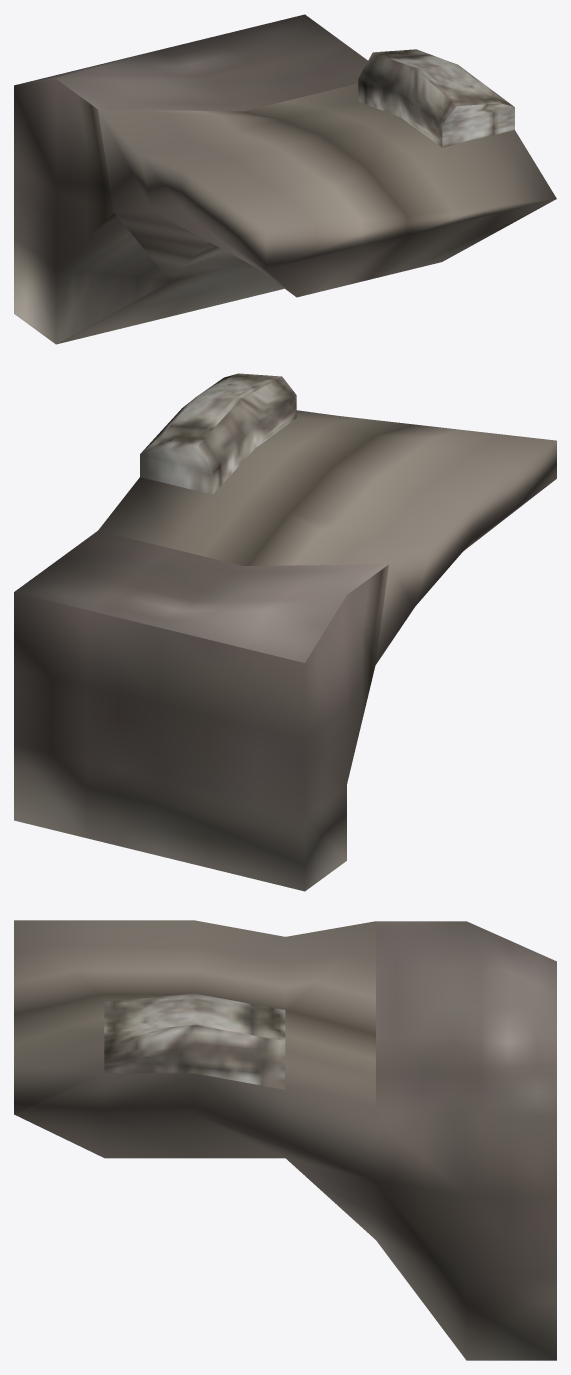
Rendered from ruin14.glb.
The picture shows the model from 3 angles, top to bottom: view 1: azimuth 30°, elevation 25°; view 2: azimuth 150°, elevation 25°; view 3: azimuth 270°, elevation 25°; orthographic projection. The views are drawn at different scales.
Visible parts, largest first — view 1: ruin14; view 2: ruin14; view 3: ruin14.
Boxes of the visible parts, bbox=[...] form: ruin14: bbox=[14, 14, 556, 344]; ruin14: bbox=[14, 373, 556, 891]; ruin14: bbox=[14, 920, 556, 1360].
Size of the model in its own units: 2 by 2.05 by 3.
2 materials, 2 textured.
